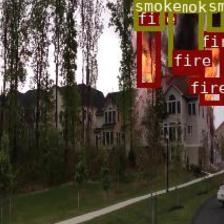fire: (199, 31, 223, 104), (136, 25, 160, 86), (171, 67, 202, 74), (188, 77, 197, 86)
smoke: (168, 0, 202, 66), (133, 0, 164, 29), (206, 0, 224, 30)
